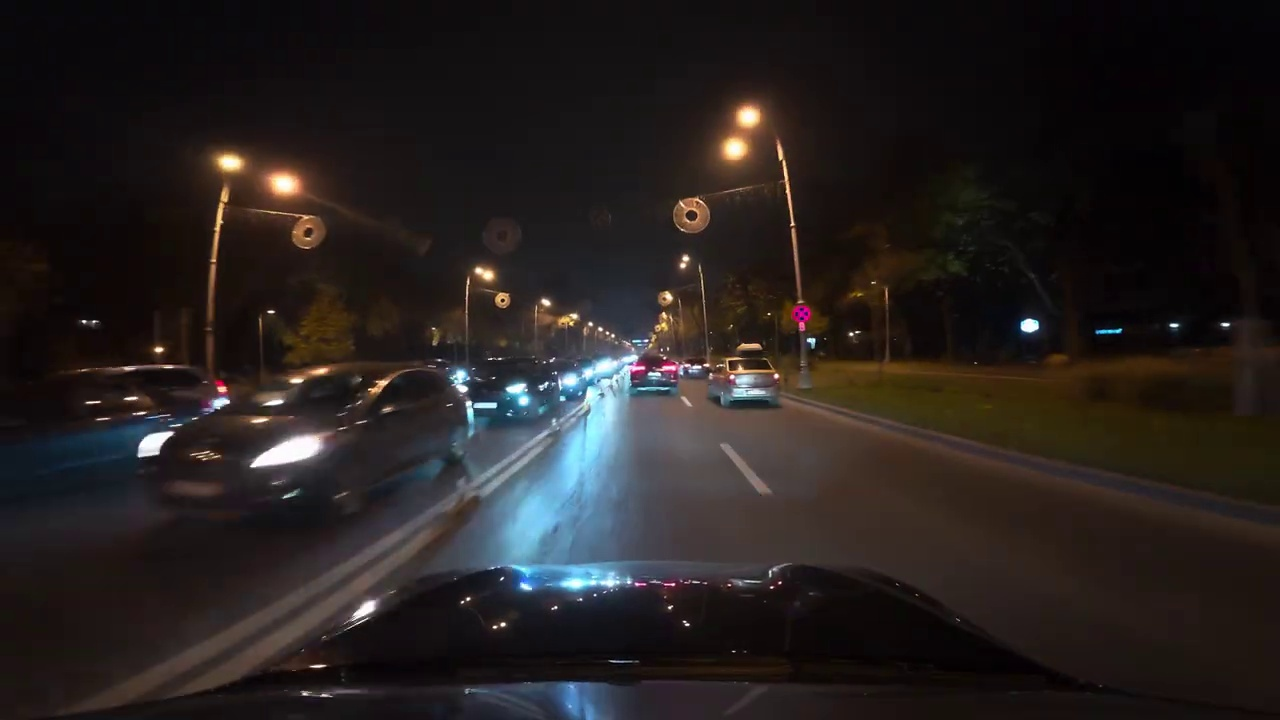acesa: (727, 108, 760, 152), (268, 170, 302, 199), (721, 133, 755, 162), (215, 150, 246, 176), (734, 103, 762, 128), (488, 222, 514, 248), (472, 265, 498, 286)
